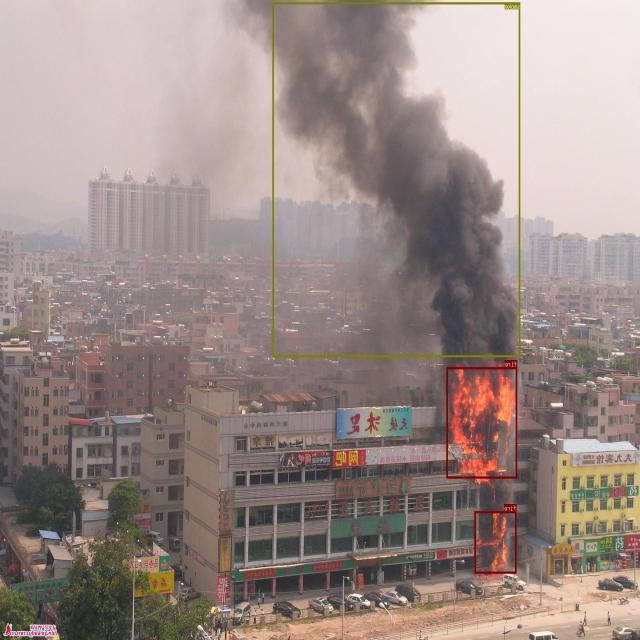fire: (447, 367, 517, 478), (475, 511, 517, 573)
smoke: (273, 2, 520, 357)
